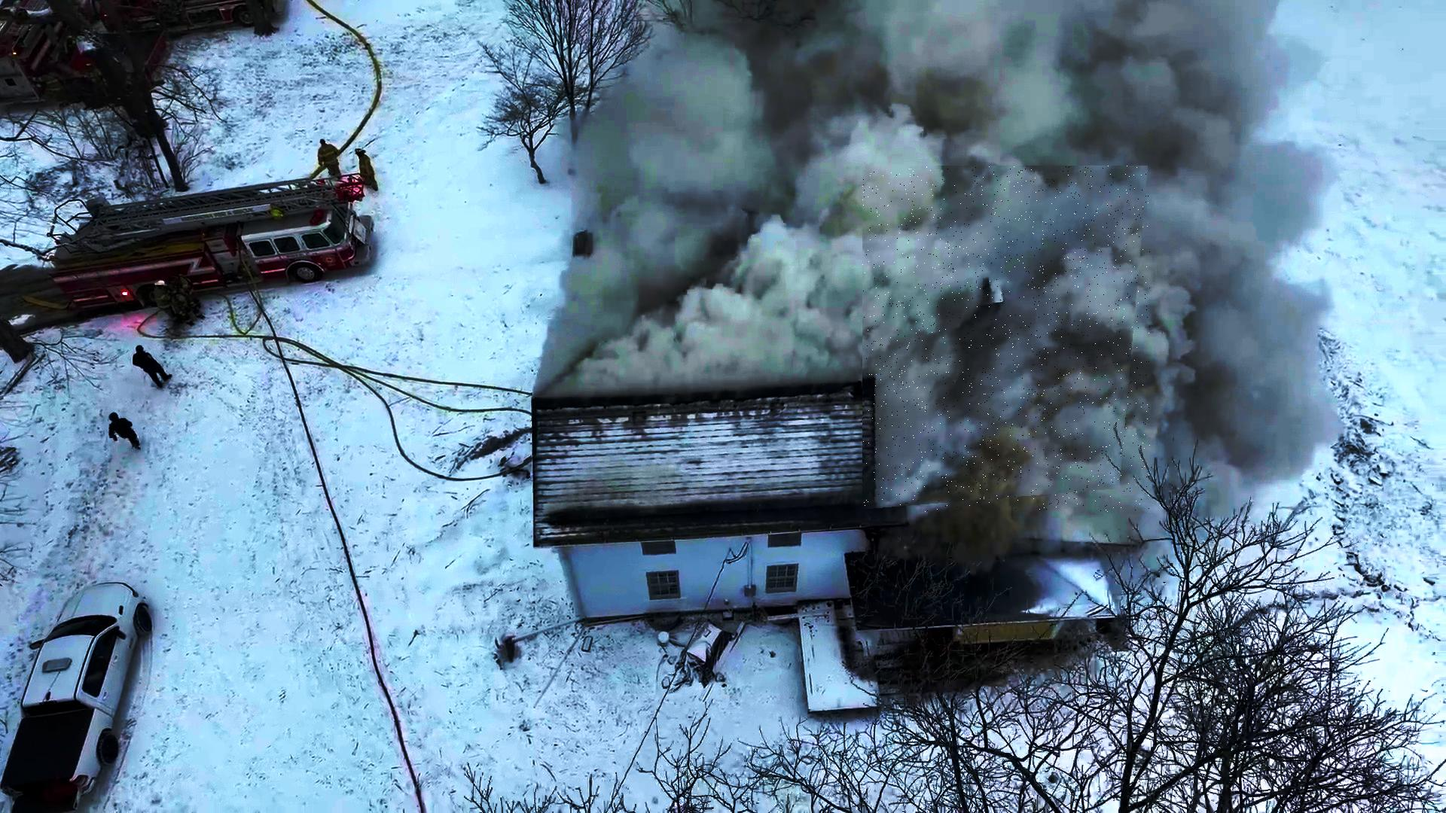smoke: (862, 166, 1150, 512)
